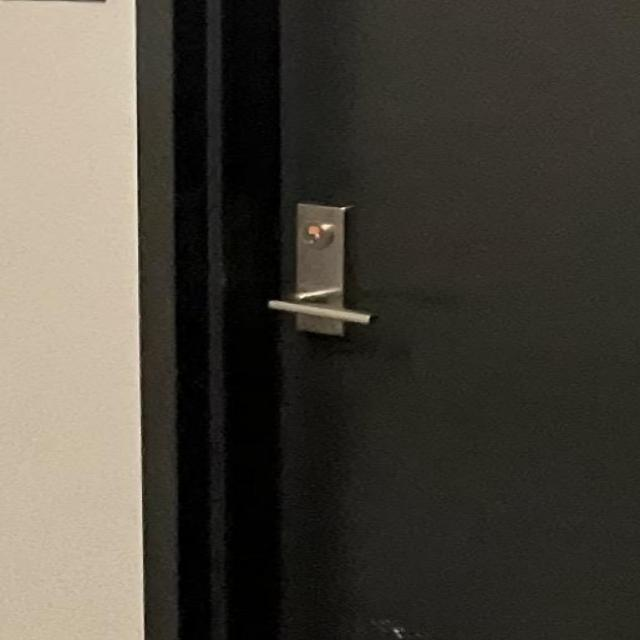door_handle: (245, 277, 392, 353)
